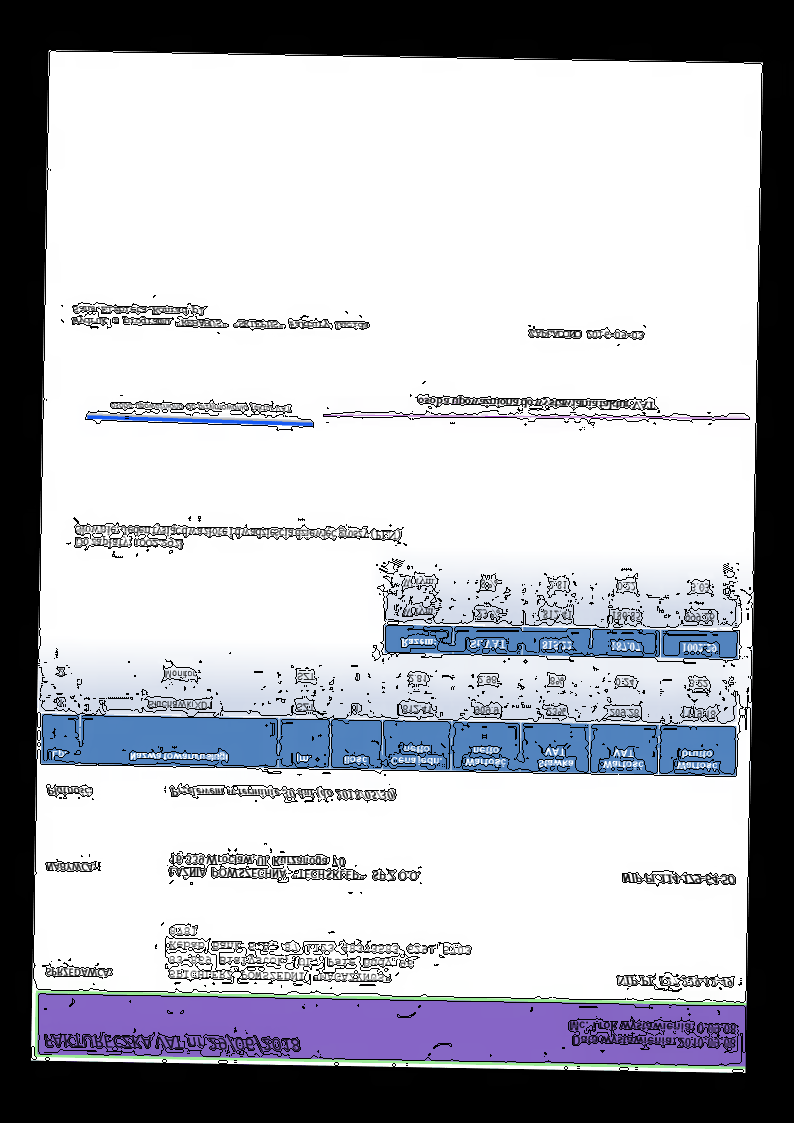Table: (38, 650, 740, 778), (383, 562, 741, 661)
TextBox: (166, 924, 473, 987), (72, 521, 402, 556), (70, 303, 371, 334), (167, 852, 422, 886), (42, 1030, 302, 1055), (566, 1018, 738, 1051), (167, 782, 398, 803), (416, 394, 657, 414), (107, 399, 293, 415), (615, 973, 735, 990), (620, 871, 738, 887), (527, 327, 645, 342), (43, 965, 114, 980), (42, 860, 99, 874), (45, 784, 94, 800)
